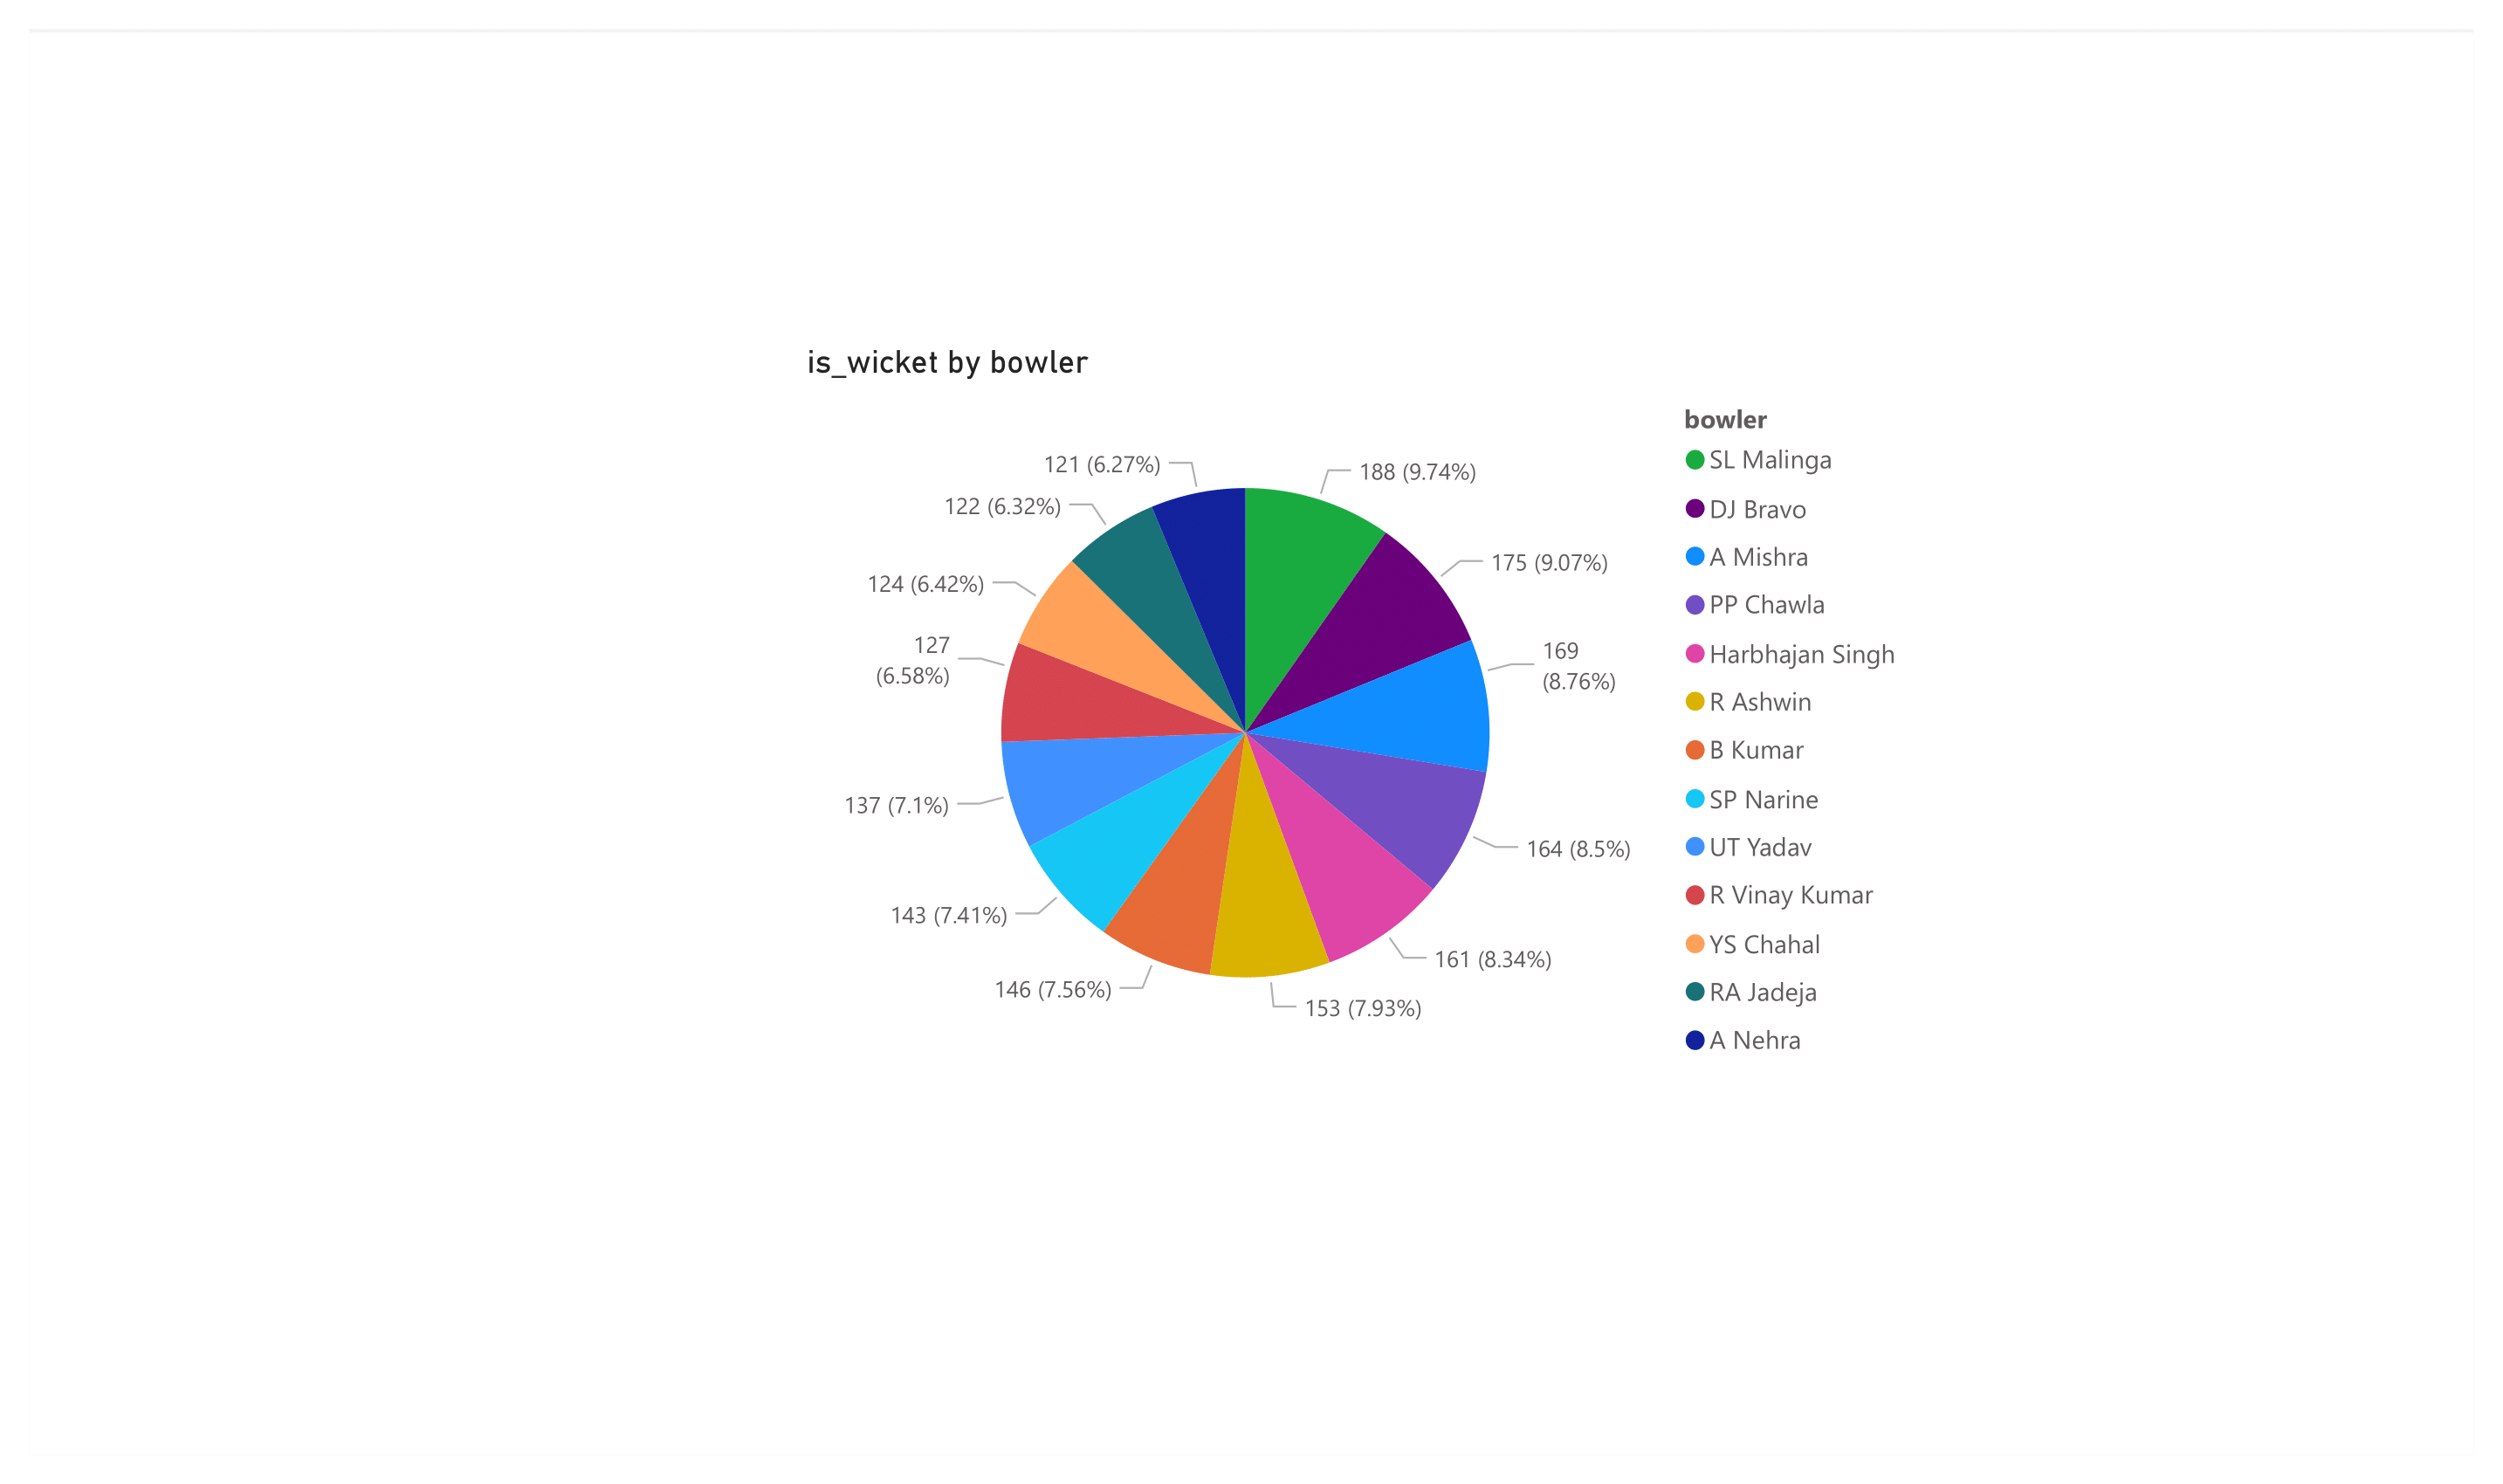

The page's visual inventory and layout, read from the dashboard file:
{"tool":"powerbi","page":{"name":"Page 2","canvas":[1280,720],"ordinal":1},"visuals":[{"type":"pieChart","fields":{"Y":["Sum(IPL Ball-by-Ball 2008-2020.is_wicket)"],"Category":["IPL Ball-by-Ball 2008-2020.bowler"]},"box":[403,150.1,589.3,389.6],"z":0}]}

Visuals, with their boxes on the page's 1280x720 design canvas (x1, y1, x2, y2). These are canvas units, not pixel positions in the 2503x1484 screenshot, which may show the page scaled, cropped or inside an application window:
pieChart - Sum(IPL Ball-by-Ball 2008-2020.is_wicket) x IPL Ball-by-Ball 2008-2020.bowler: {"x1": 403, "y1": 150, "x2": 992, "y2": 540}
